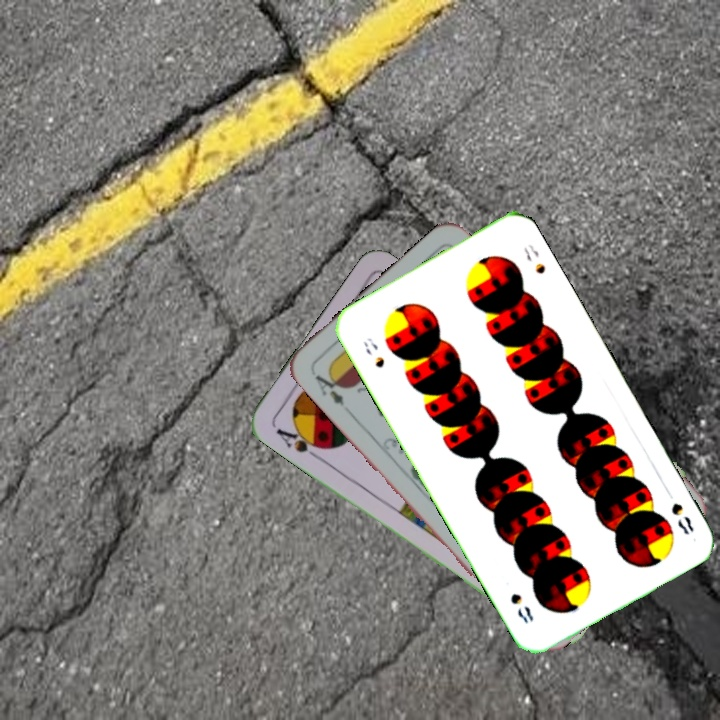EA: (311, 365, 353, 414)
S8: (666, 498, 697, 538), (359, 333, 387, 371)
SA: (272, 421, 328, 462)
